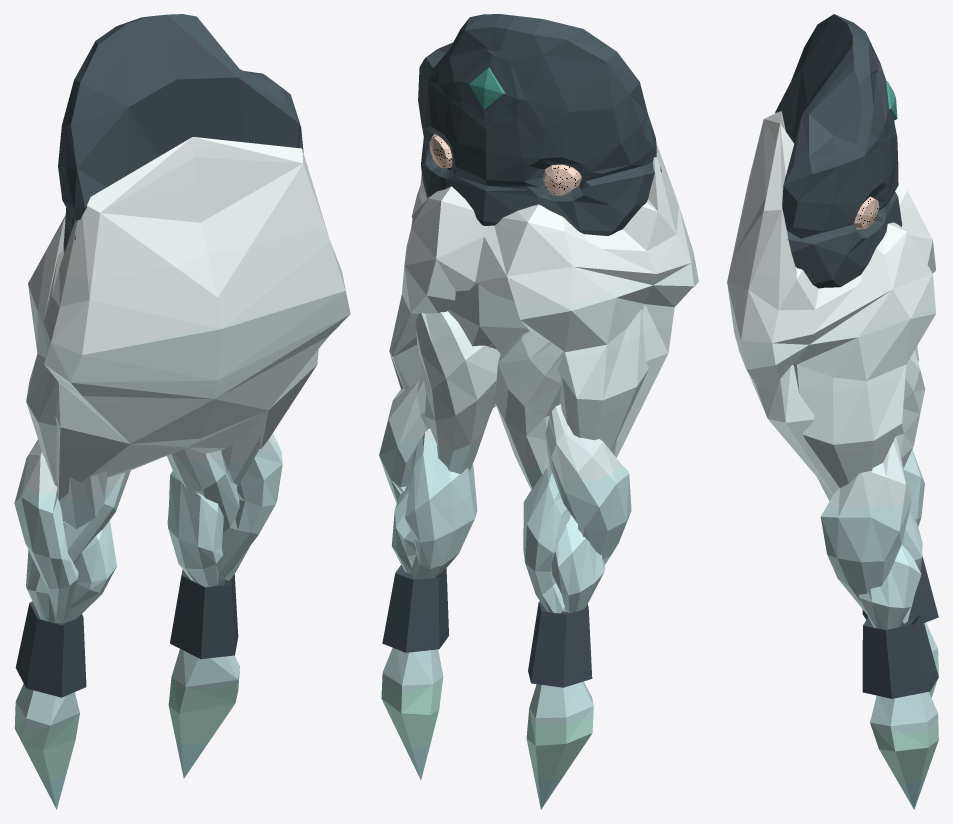
The model's file is CharSkyKid_Mask_AP13BraidedBeard_01.glb.
3 renders of one model, left to right at view 1: azimuth 30°, elevation 25°; view 2: azimuth 150°, elevation 25°; view 3: azimuth 270°, elevation 25°, orthographic. The views are drawn at different scales.
Parts seen in each view (by area): view 1: CharSkyKid_Mask_AP13BraidedBeard_01; view 2: CharSkyKid_Mask_AP13BraidedBeard_01; view 3: CharSkyKid_Mask_AP13BraidedBeard_01.
Boxes of the visible parts, left/top/right/bottom form: CharSkyKid_Mask_AP13BraidedBeard_01: left=14, top=14, right=350, bottom=809; CharSkyKid_Mask_AP13BraidedBeard_01: left=379, top=14, right=698, bottom=809; CharSkyKid_Mask_AP13BraidedBeard_01: left=727, top=14, right=938, bottom=809.
Size of the model in its own units: 2.64 by 6.78 by 1.75.
Materials: 1 (1 with a texture image).
